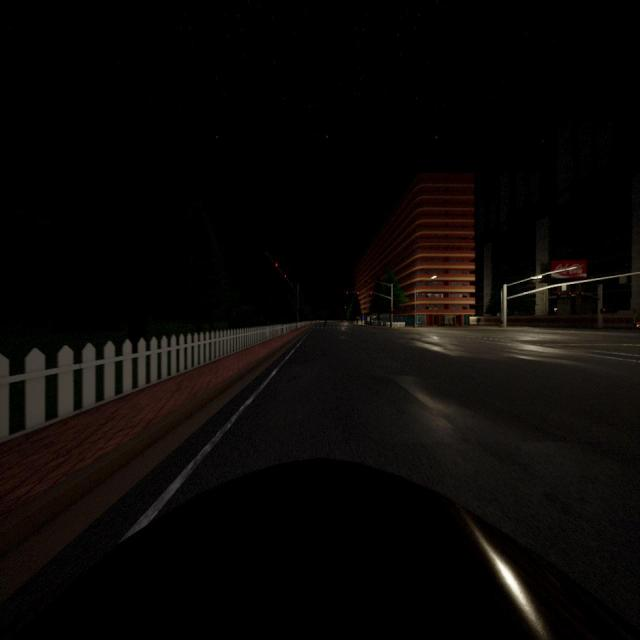Vehicle: (0, 450, 640, 640)
traffic_light: (600, 308, 605, 314), (275, 262, 278, 267), (346, 291, 348, 295), (558, 291, 560, 295), (391, 310, 393, 314), (284, 274, 286, 278), (582, 292, 584, 295), (357, 292, 359, 294), (370, 292, 372, 294), (569, 292, 571, 294)
